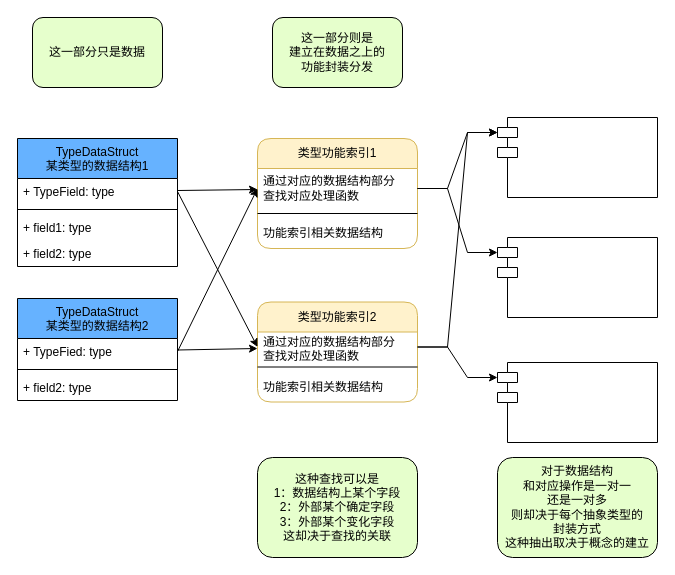
This 675x575 diagram has some shape labels left out. Here are the shapes that lost their labels. From the top down, the centre of each, then its label:
At point 577,157: "对于类型操作结构 建立在TypeField上分发".
At point 577,277: "对于类型操作结构 建立在TypeField上分发 只对数据1操作".
At point 577,402: "对于类型操作结构 建立在TypeField上分发 只对数据2操作".
